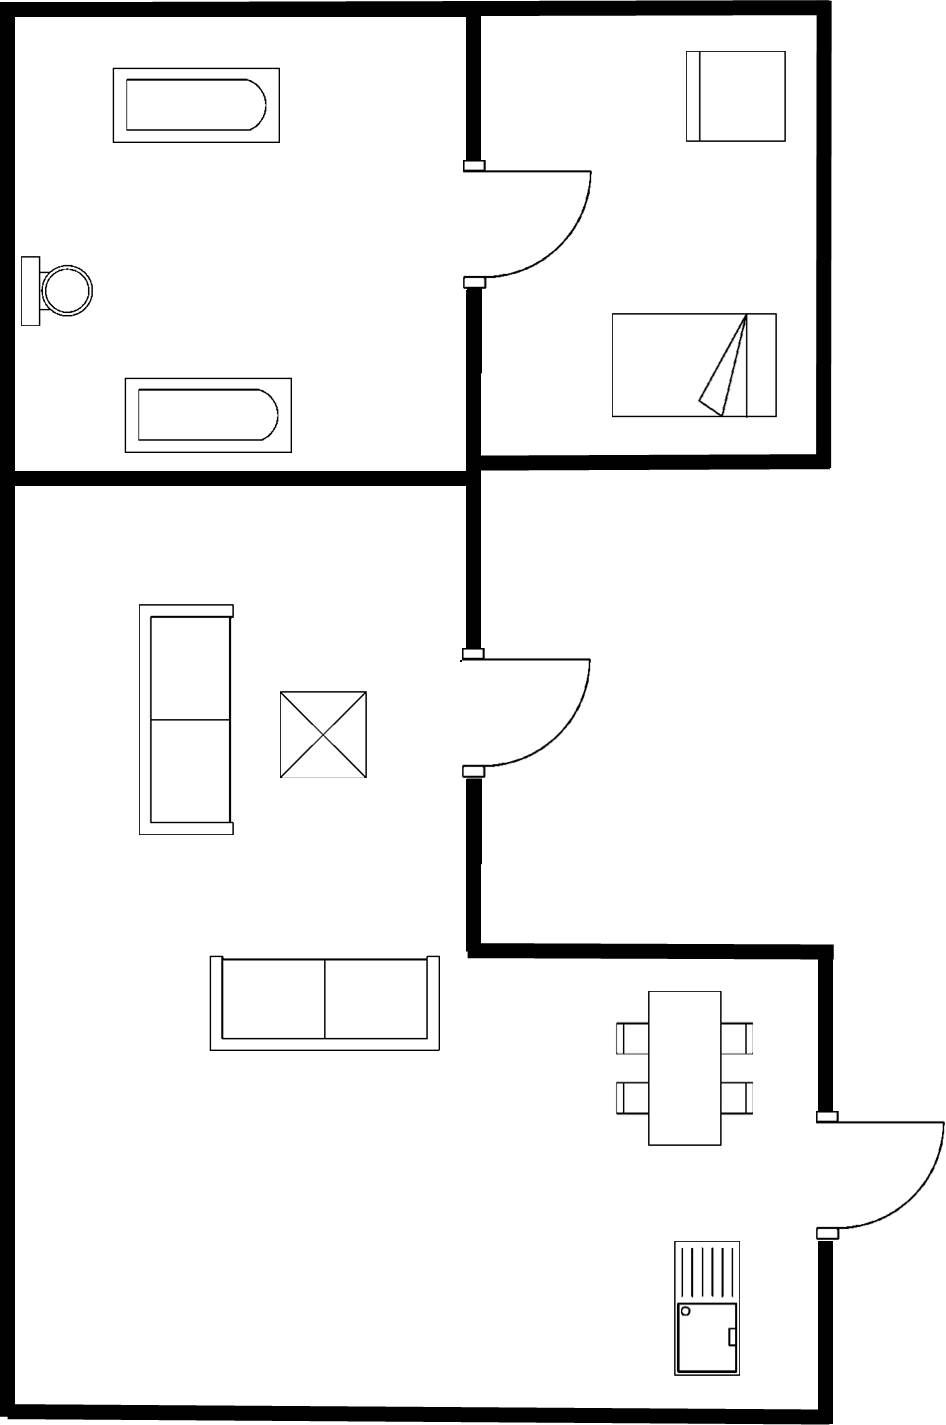bed: (604, 305, 783, 427)
coffee_table: (267, 677, 377, 794)
dining_table: (606, 981, 766, 1159)
large_sink: (17, 251, 102, 330)
large_sofa: (127, 598, 241, 844), (201, 949, 447, 1063)
sink: (665, 1233, 748, 1385)
small_sofa: (674, 39, 797, 153)
tub: (102, 60, 287, 151), (116, 371, 302, 460)
